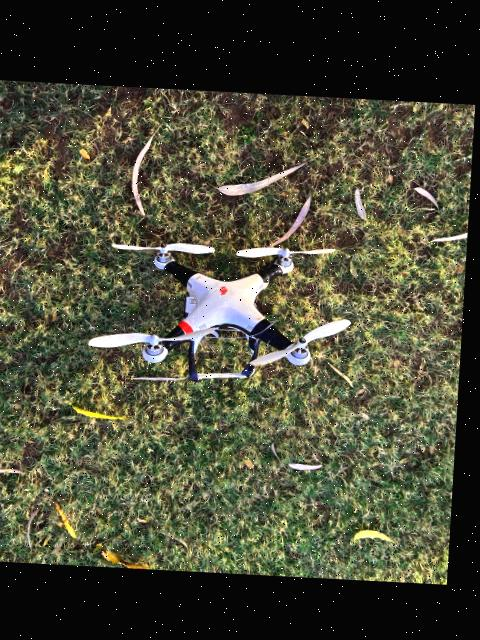drone: (70, 184, 409, 449)
